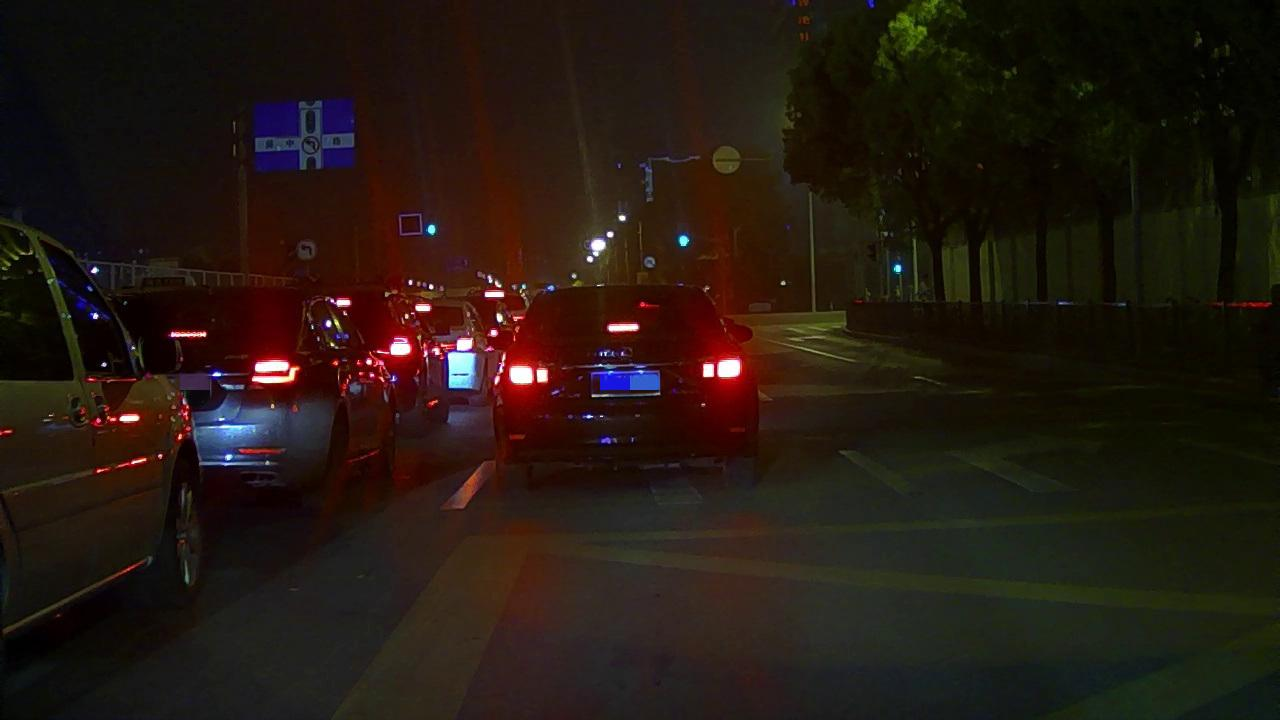traffic_light: (426, 225, 439, 234), (681, 235, 689, 245)
